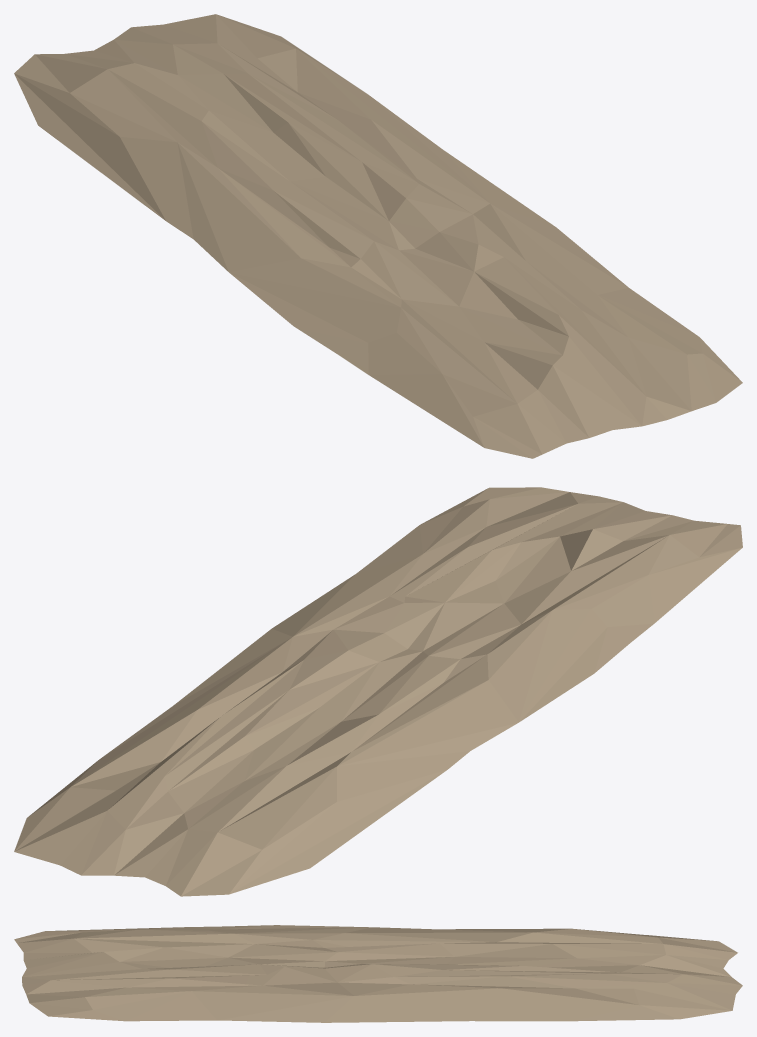
Rendered from desert_SM_Env_DirtRoad_Straight_01.gltf.
3 views of the same model, one above another, from view 1: azimuth 30°, elevation 25°; view 2: azimuth 150°, elevation 25°; view 3: azimuth 270°, elevation 25° (orthographic). The views are drawn at different scales.
Visible parts, largest first — view 1: SM_Env_DirtRoad_Straight_01; view 2: SM_Env_DirtRoad_Straight_01; view 3: SM_Env_DirtRoad_Straight_01.
Part boxes in pixels (box(x1,y1,x2,y2)): SM_Env_DirtRoad_Straight_01: box(14, 14, 742, 458); SM_Env_DirtRoad_Straight_01: box(14, 487, 742, 896); SM_Env_DirtRoad_Straight_01: box(14, 925, 742, 1022).
Bounding box in the file's own units: 2.68 × 0.3127 × 8.43.
1 material, 1 textured.
